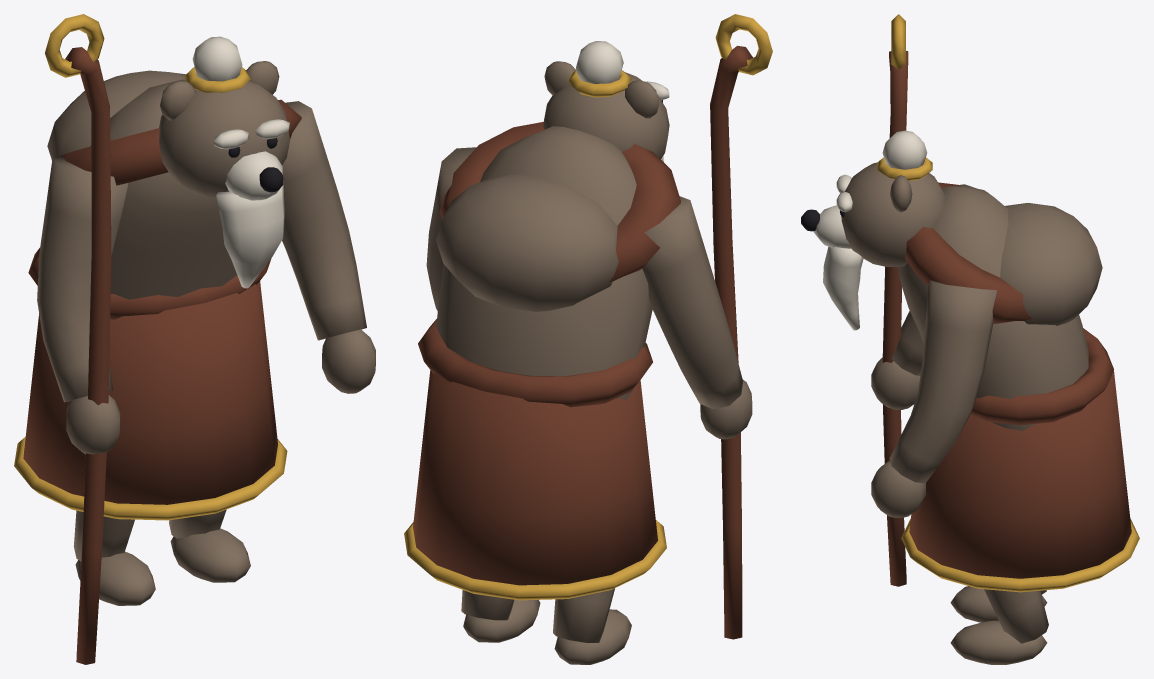
The model's file is jembawan.glb.
3 views of the same model, side by side, from view 1: azimuth 30°, elevation 25°; view 2: azimuth 150°, elevation 25°; view 3: azimuth 270°, elevation 25° (orthographic). The views are drawn at different scales.
Visible parts, largest first — view 1: body_mesh, head_mesh, arm_l_mesh, arm_r_mesh, weapon_mesh, leg_l_mesh, leg_r_mesh; view 2: body_mesh, arm_r_mesh, weapon_mesh, head_mesh, leg_r_mesh, leg_l_mesh, arm_l_mesh; view 3: body_mesh, arm_l_mesh, head_mesh, weapon_mesh, leg_l_mesh, arm_r_mesh, leg_r_mesh.
Boxes of the visible parts, x1=… form: body_mesh: x1=14, y1=70, x2=301, y2=520; head_mesh: x1=159, y1=36, x2=289, y2=288; arm_l_mesh: x1=282, y1=101, x2=375, y2=393; arm_r_mesh: x1=37, y1=157, x2=128, y2=454; weapon_mesh: x1=45, y1=14, x2=111, y2=664; leg_l_mesh: x1=169, y1=509, x2=250, y2=582; leg_r_mesh: x1=73, y1=510, x2=155, y2=605; body_mesh: x1=404, y1=121, x2=680, y2=600; arm_r_mesh: x1=642, y1=196, x2=752, y2=439; weapon_mesh: x1=710, y1=14, x2=772, y2=639; head_mesh: x1=543, y1=41, x2=669, y2=161; leg_r_mesh: x1=553, y1=588, x2=631, y2=664; leg_l_mesh: x1=461, y1=590, x2=540, y2=642; arm_l_mesh: x1=426, y1=147, x2=476, y2=310; body_mesh: x1=898, y1=182, x2=1139, y2=592; arm_l_mesh: x1=871, y1=280, x2=997, y2=517; head_mesh: x1=801, y1=130, x2=946, y2=330; weapon_mesh: x1=882, y1=14, x2=908, y2=586; leg_l_mesh: x1=950, y1=589, x2=1048, y2=664; arm_r_mesh: x1=871, y1=184, x2=987, y2=409; leg_r_mesh: x1=950, y1=586, x2=1047, y2=622.
Size of the model in its own units: 0.8806 by 1.66 by 0.9085.
